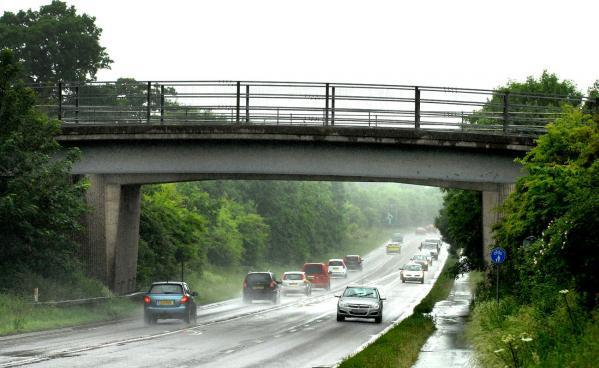bridge: (31, 76, 536, 188)
